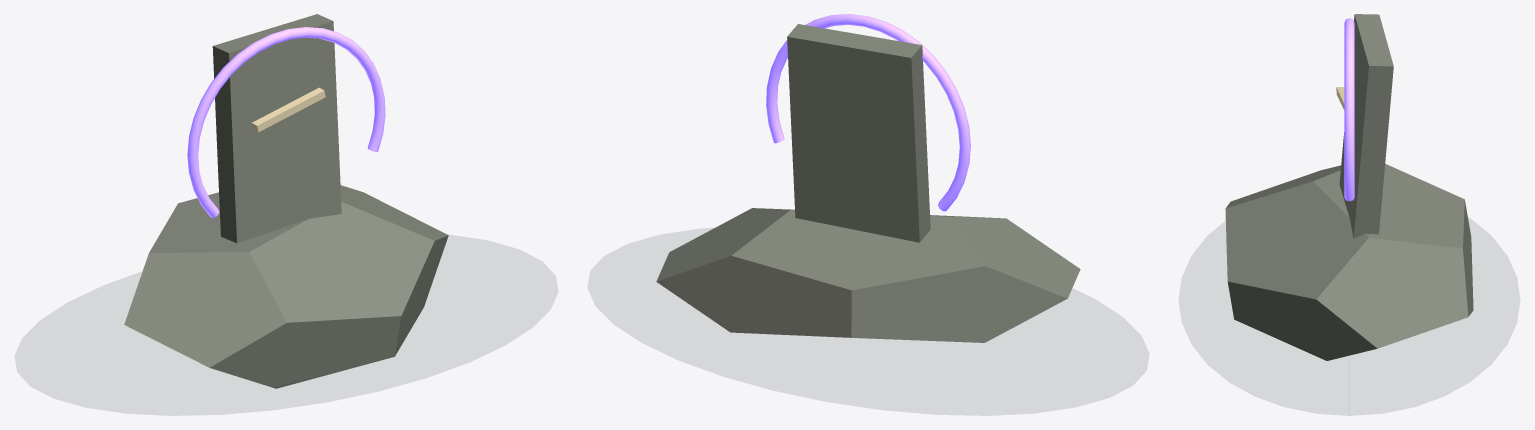
The model's file is map_memory.glb.
3 views of the same model, side by side, from view 1: azimuth 30°, elevation 25°; view 2: azimuth 150°, elevation 25°; view 3: azimuth 270°, elevation 25° (orthographic). The views are drawn at different scales.
Visible parts, largest first — view 1: memory_flat_stone, soft_ground_shadow, memory_upright_tablet, memory_trace_arc, memory_notch; view 2: memory_flat_stone, soft_ground_shadow, memory_upright_tablet, memory_trace_arc; view 3: memory_flat_stone, soft_ground_shadow, memory_upright_tablet, memory_trace_arc.
Part boxes in pixels (<box>): memory_flat_stone: <box>124,185,448,388</box>; soft_ground_shadow: <box>15,235,557,415</box>; memory_upright_tablet: <box>212,14,341,243</box>; memory_trace_arc: <box>187,27,385,217</box>; memory_notch: <box>252,87,325,132</box>; memory_flat_stone: <box>656,208,1080,342</box>; soft_ground_shadow: <box>588,228,1148,415</box>; memory_upright_tablet: <box>787,24,930,242</box>; memory_trace_arc: <box>766,14,970,211</box>; memory_flat_stone: <box>1225,164,1473,360</box>; soft_ground_shadow: <box>1179,219,1519,415</box>; memory_upright_tablet: <box>1339,14,1393,238</box>; memory_trace_arc: <box>1344,18,1354,201</box>.
Size of the model in its own units: 2.62 by 1.5 by 1.64.
